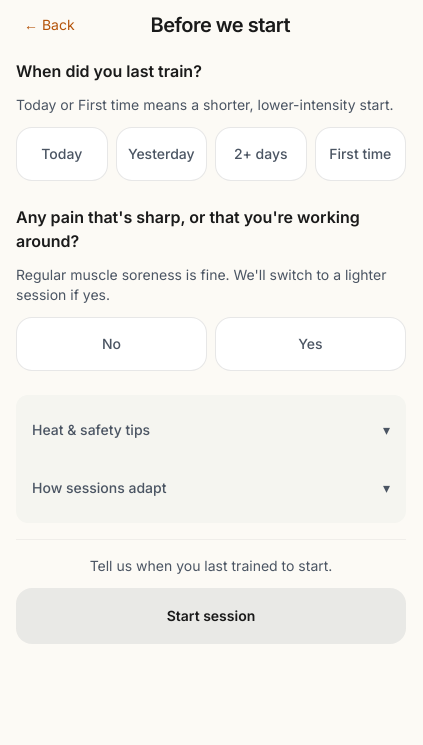
Scenario: SafetyCheckScreen steering trace (trust-loop U4) › gloss stays reachable on an unsteered draft once any persisted plan was steered (R10)
Click the button "How sessions adapt ▾".
click(99, 488)  # box top-left (32, 461), bottom-right (390, 515)
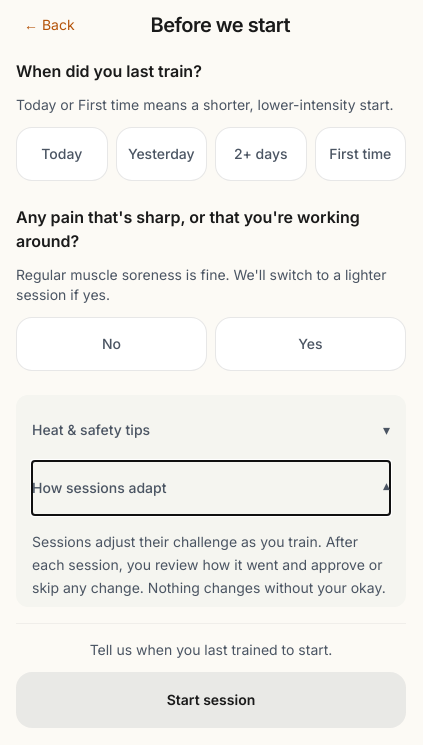
Expected: the text "nothing changes without your okay" is shown, top-left (32, 533), bottom-right (386, 596)
